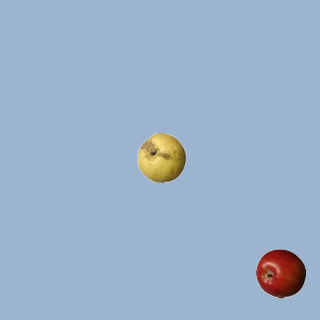Apple Braeburn: (255, 248, 305, 298)
Apple Golden 1: (136, 132, 186, 182)
